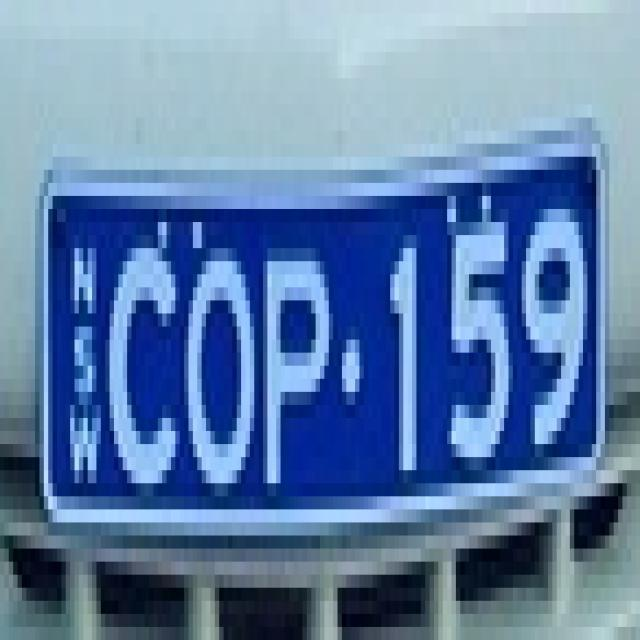licenseplate: (30, 74, 618, 576)
